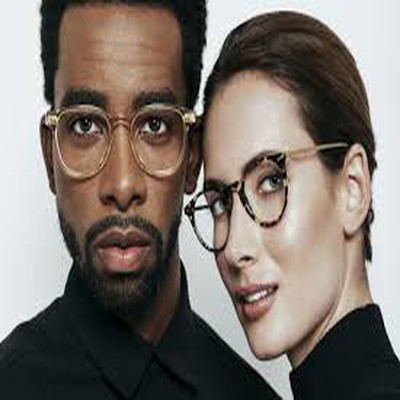eywear: (32, 80, 198, 185), (180, 166, 318, 242)
